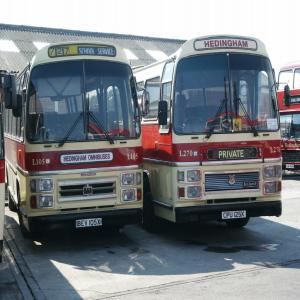Vehicle-registration-plate: (76, 218, 103, 230), (223, 212, 247, 220)
